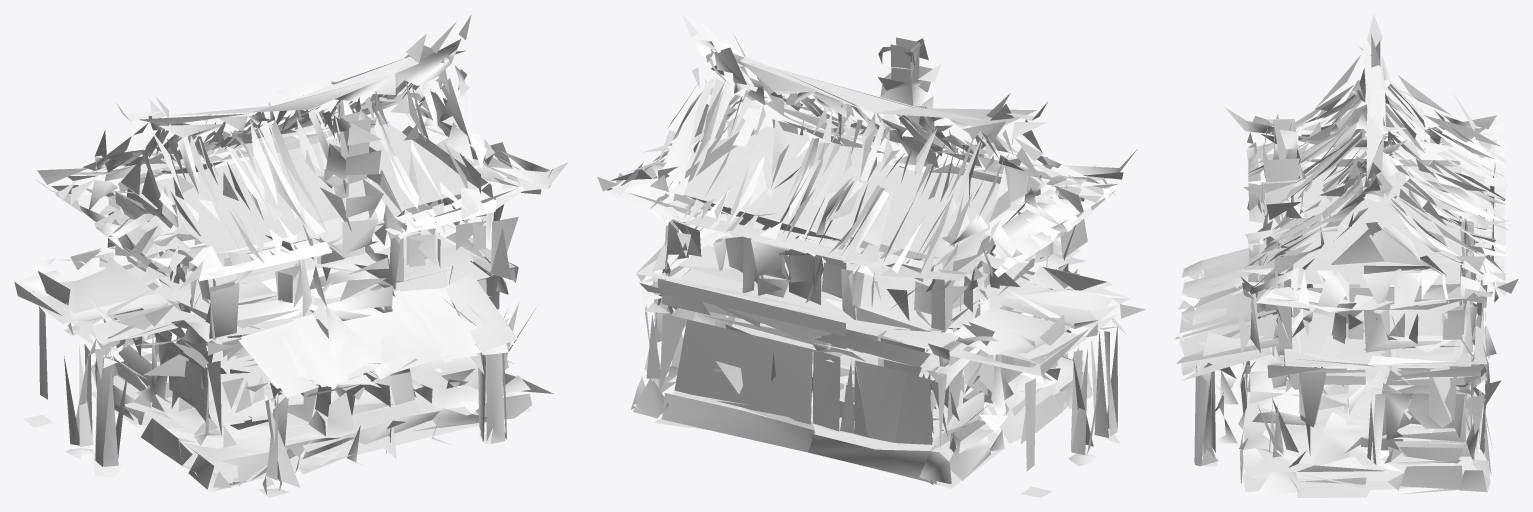
File: house_shop_c_lod2.glb
3 views of the same model, side by side, from view 1: azimuth 30°, elevation 25°; view 2: azimuth 150°, elevation 25°; view 3: azimuth 270°, elevation 25° (orthographic). The views are drawn at different scales.
Visible parts, largest first — view 1: house_shop_c; view 2: house_shop_c; view 3: house_shop_c.
Part boxes in pixels (x1,y1,x2,y2): house_shop_c: (14, 14, 568, 497); house_shop_c: (597, 14, 1145, 497); house_shop_c: (1175, 14, 1518, 497).
Size of the model in its own units: 11.98 by 9.04 by 8.66.
1 material, 1 textured.
